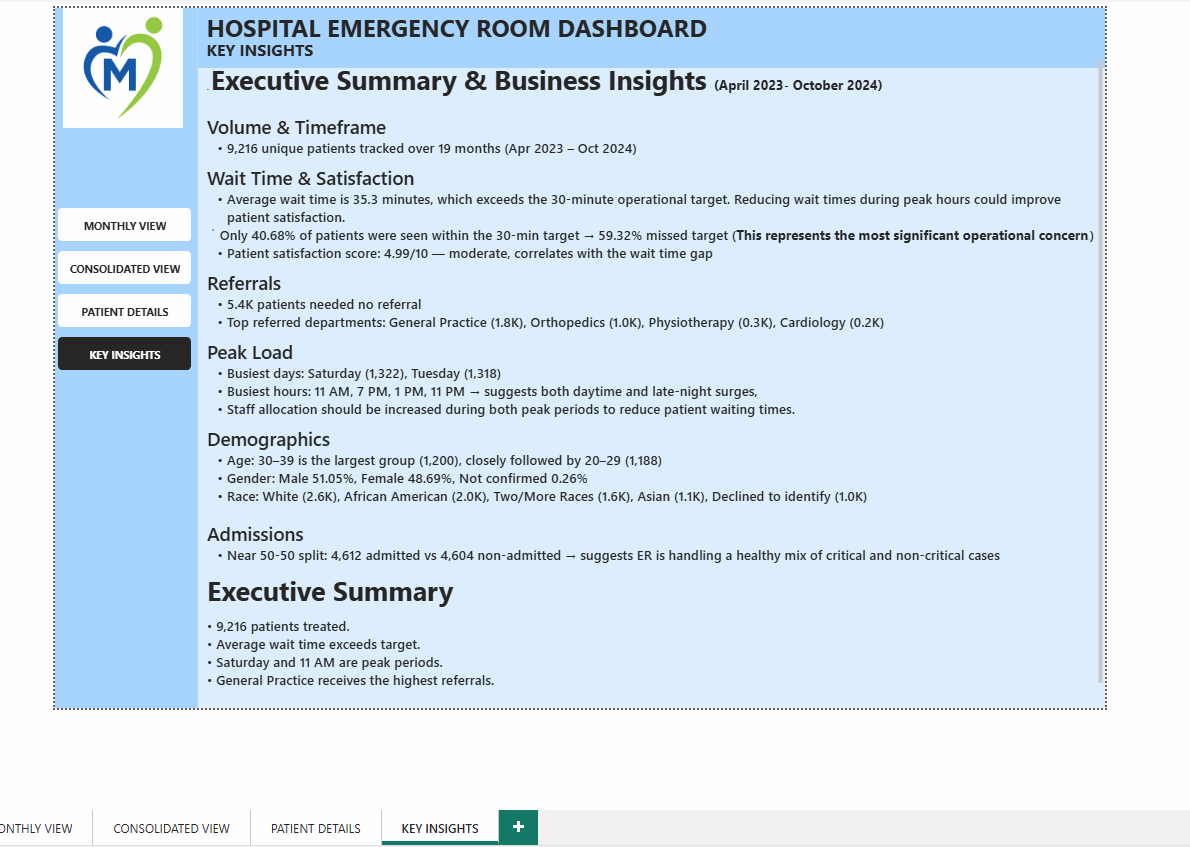

This screenshot's page, from the dashboard's own definition file:
{"tool":"powerbi","page":{"name":"KEY INSIGHTS","canvas":[2100,1400],"ordinal":3},"visuals":[{"type":"shape","box":[0,0,285.6,1400],"z":0},{"type":"shape","box":[271.6,0,1814.4,149.8],"z":1000},{"type":"textbox","box":[297.8,0,1318.2,101],"z":2000},{"type":"textbox","box":[297.8,55.7,435.3,88.8],"z":3000},{"type":"textbox","box":[285.6,151.5,290.8,88.8],"z":4000},{"type":"textbox","box":[726.1,151.5,243.8,83.6],"z":5000},{"type":"textbox","box":[1225.9,151.5,358.7,88.8],"z":6000},{"type":"textbox","box":[1706.5,149.8,358.7,87.1],"z":7000},{"type":"textbox","box":[297.8,151.5,1802.2,1248.5],"z":8000},{"type":"pageNavigator","box":[5.2,400.5,266.4,327.4],"z":9000},{"type":"image","box":[0,0,271.6,240.3],"z":9001}]}

Visuals, with their boxes on the page's 2100x1400 design canvas (x1, y1, x2, y2). These are canvas units, not pixel positions in the 1190x847 screenshot, which may show the page scaled, cropped or inside an application window:
shape: 0, 0, 286, 1400
shape: 272, 0, 2086, 150
textbox: 298, 0, 1616, 101
textbox: 298, 56, 733, 144
textbox: 286, 152, 576, 240
textbox: 726, 152, 970, 235
textbox: 1226, 152, 1585, 240
textbox: 1706, 150, 2065, 237
textbox: 298, 152, 2100, 1400
pageNavigator: 5, 400, 272, 728
image: 0, 0, 272, 240
